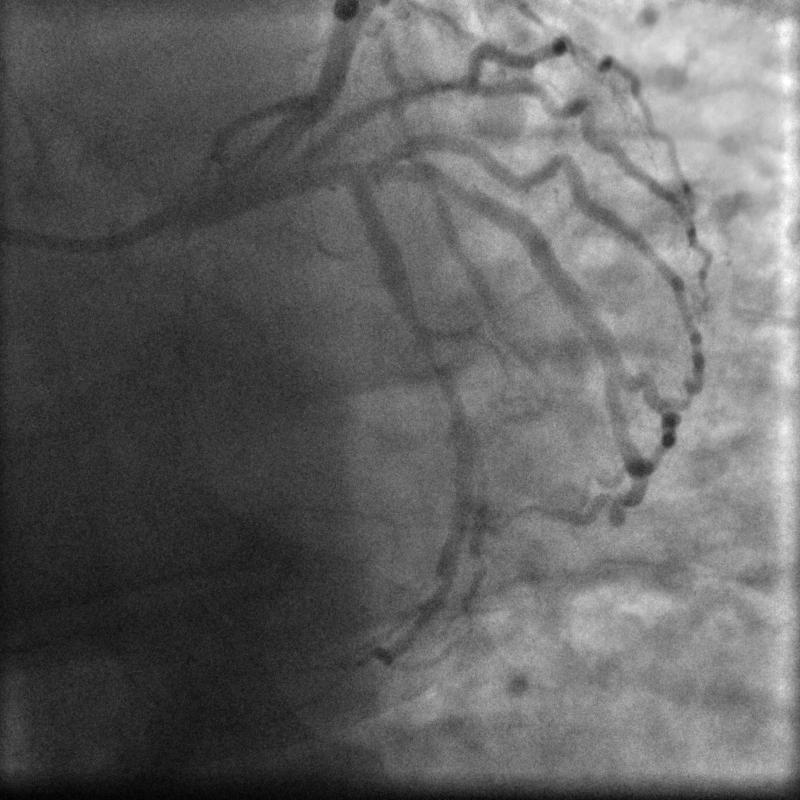Stenosis: (410, 316, 462, 409)
